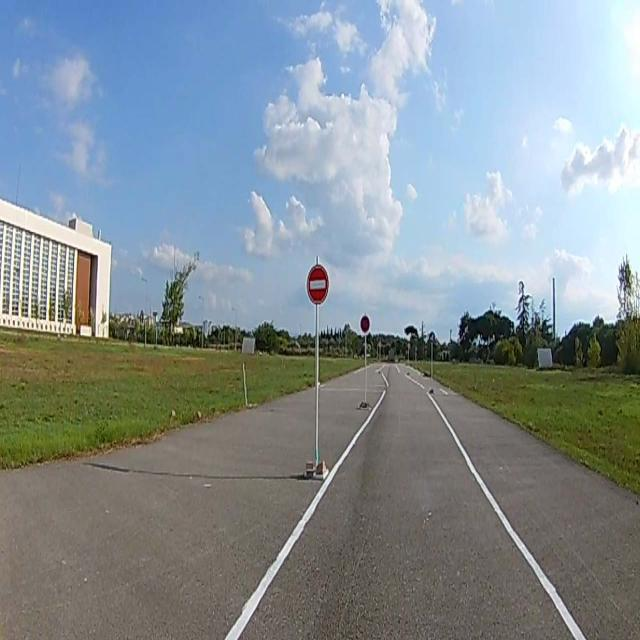girisyok: (306, 264, 329, 307)
